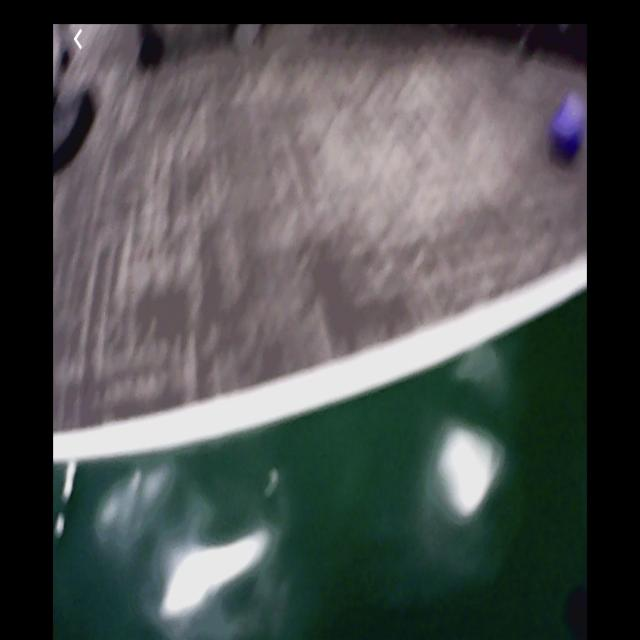ball: (551, 102, 582, 159)
